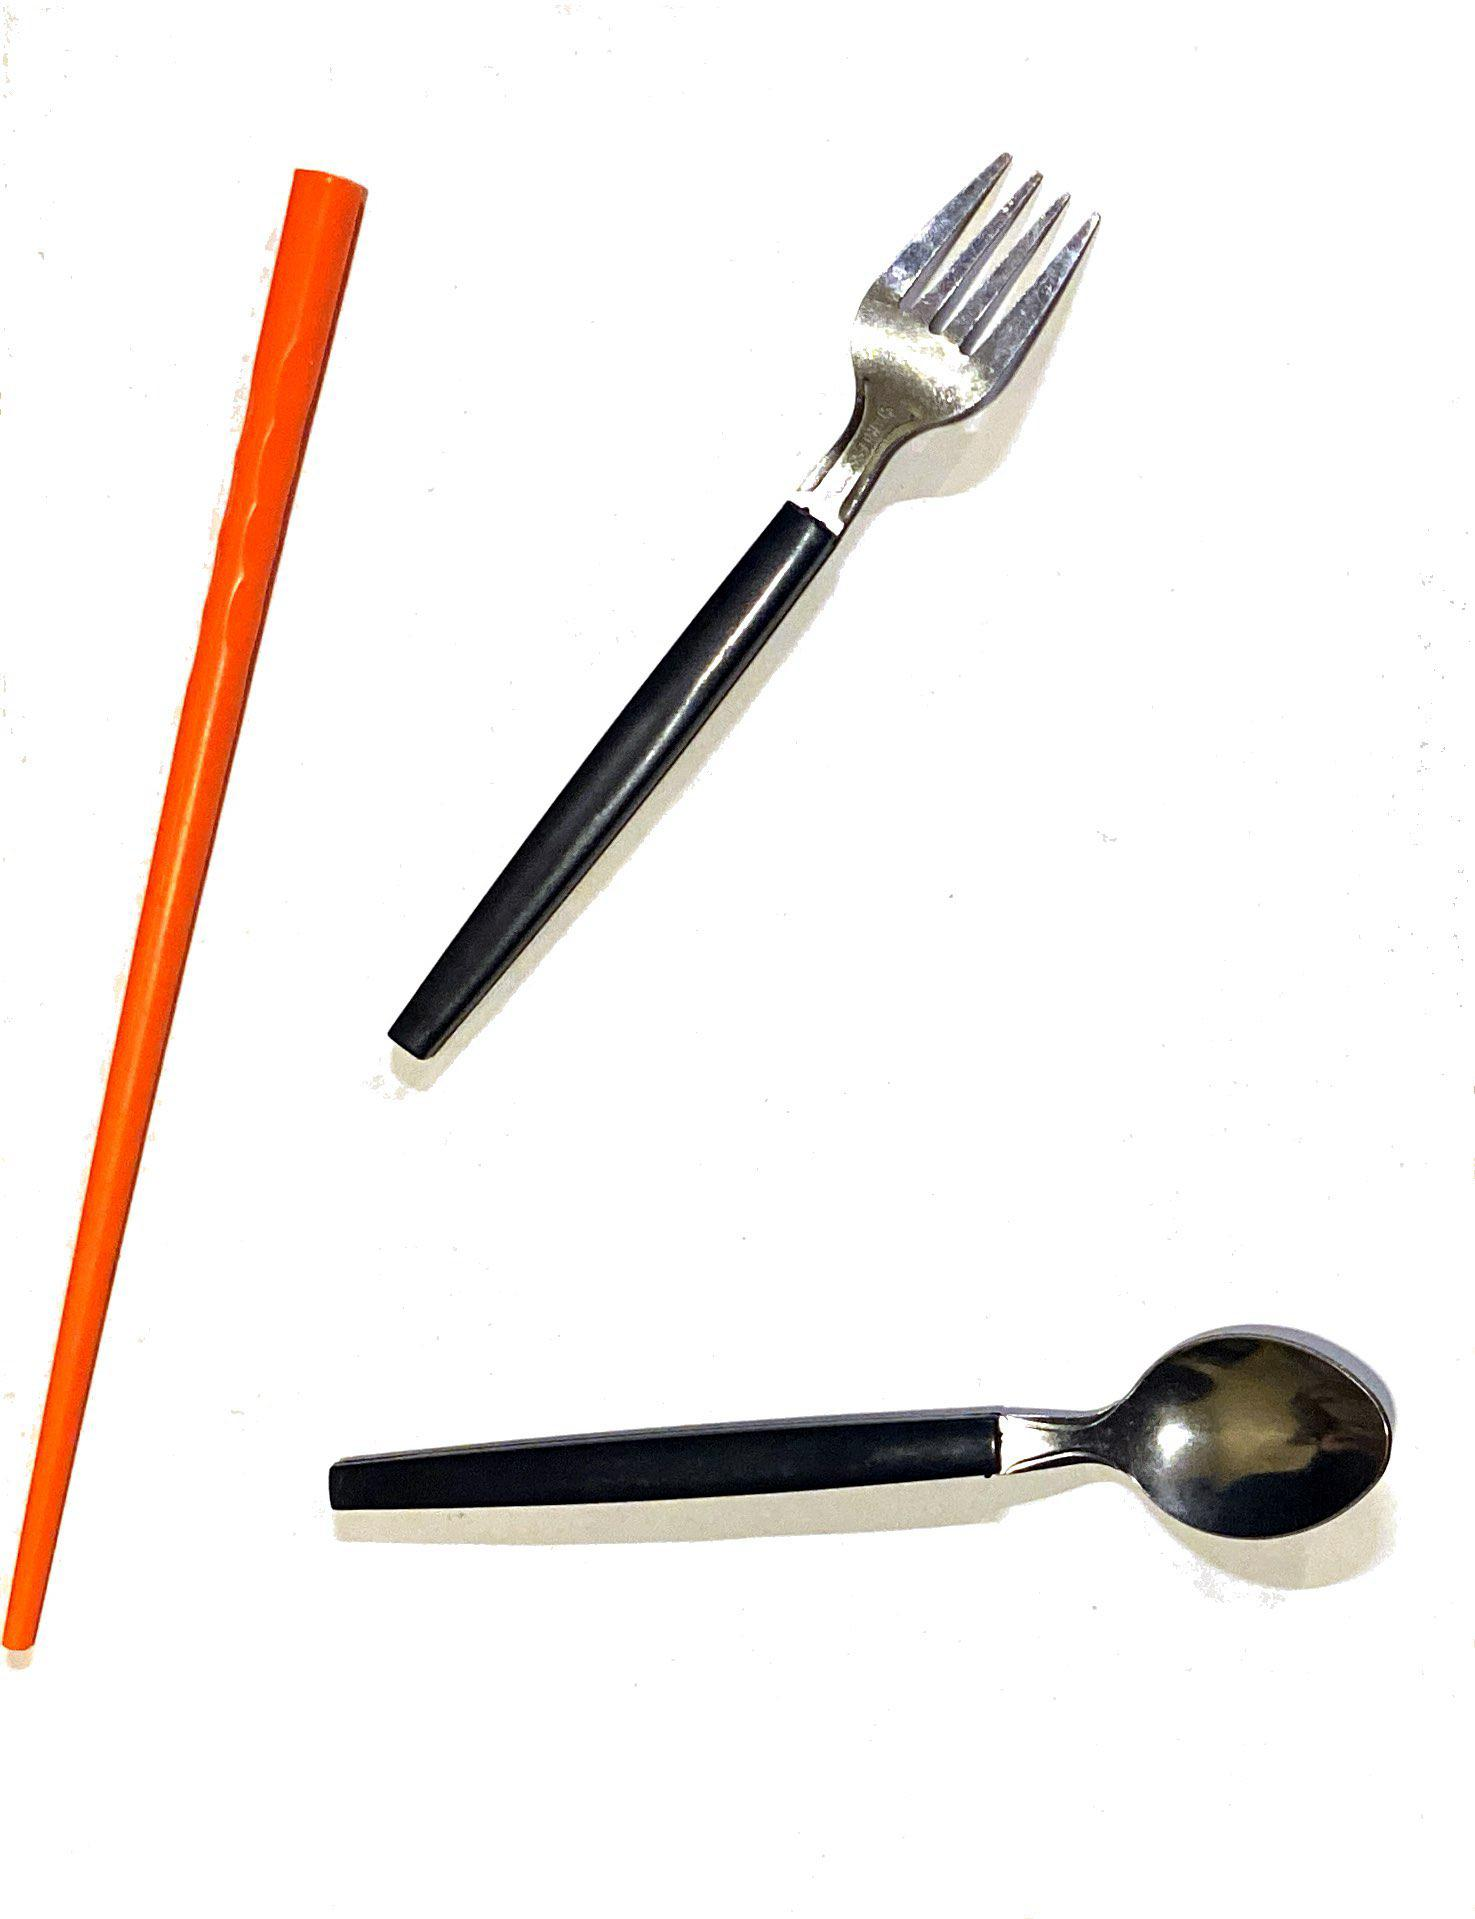Chopstick: (2, 64, 373, 1670)
Fork: (373, 115, 1252, 1123)
Spoon: (315, 1247, 1436, 1639)
